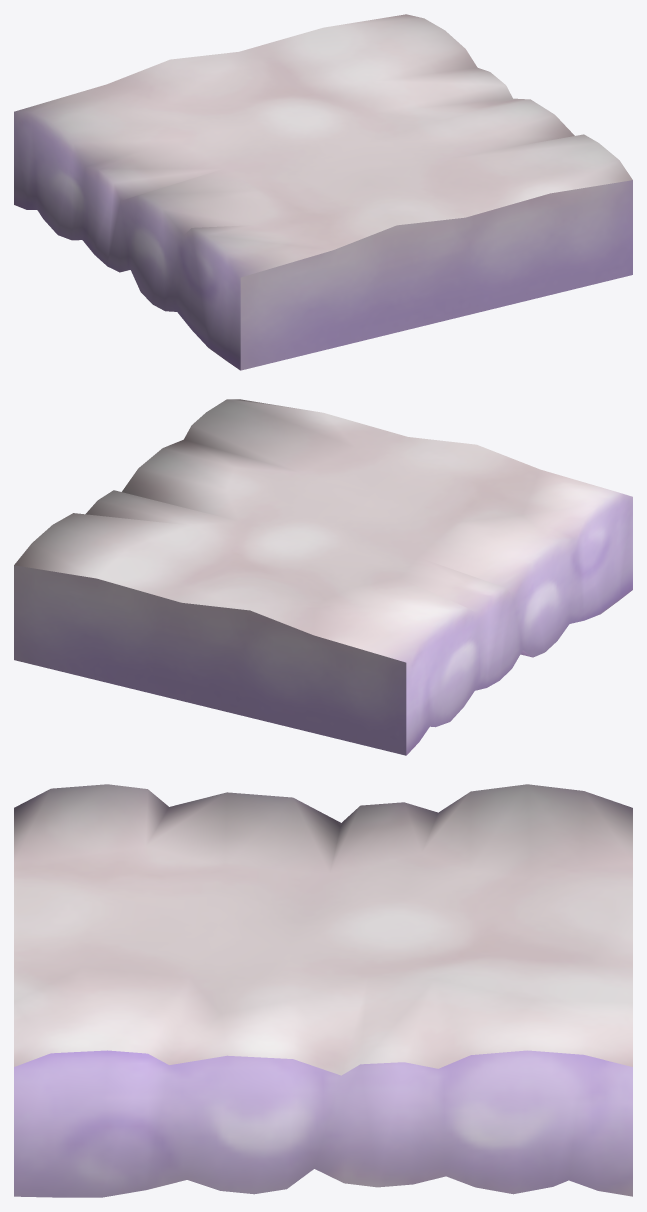
The model's file is scenes_common_cloudroad01a.FBX.
3 views of the same model, one above another, from view 1: azimuth 30°, elevation 25°; view 2: azimuth 150°, elevation 25°; view 3: azimuth 270°, elevation 25° (orthographic). The views are drawn at different scales.
Visible parts, largest first — view 1: scenes_common_cloudroad01a; view 2: scenes_common_cloudroad01a; view 3: scenes_common_cloudroad01a.
Boxes of the visible parts, x1=… form: scenes_common_cloudroad01a: x1=14, y1=14, x2=632, y2=370; scenes_common_cloudroad01a: x1=14, y1=399, x2=632, y2=755; scenes_common_cloudroad01a: x1=14, y1=784, x2=632, y2=1197.
Bounding box in the file's own units: 400 × 108 × 400.
